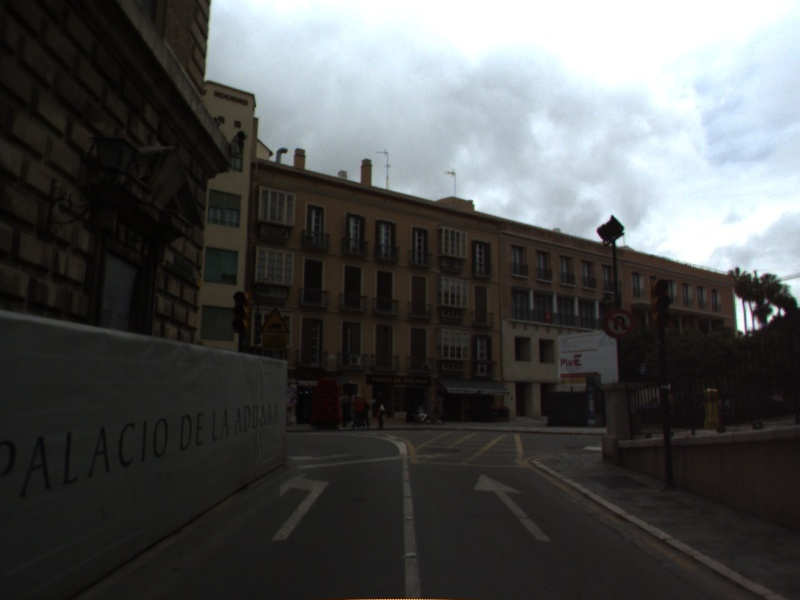LEFT: (269, 471, 332, 543)
STRAIGHT: (472, 471, 554, 543)
